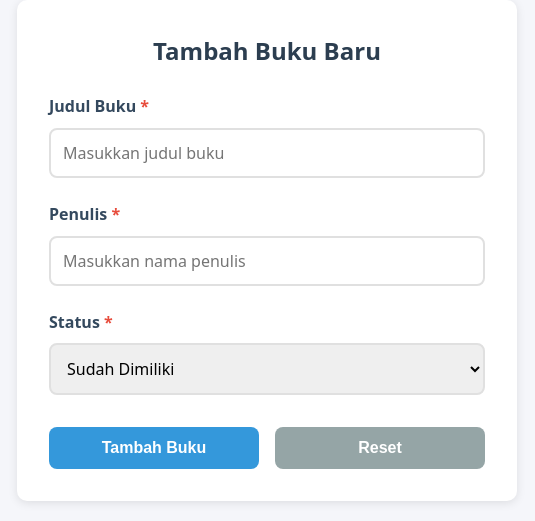
Test case: BookForm Component › should clear form when reset button is clicked
# Isi form
Type "Clean Code" into the field labelled "Judul Buku *" at (267, 153), box [49,128,485,178]
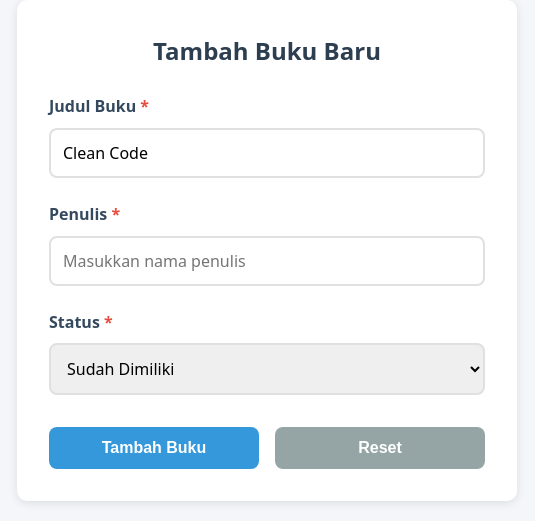
Type "Robert Martin" into the field labelled "Penulis *" at (267, 261), box [49,236,485,286]
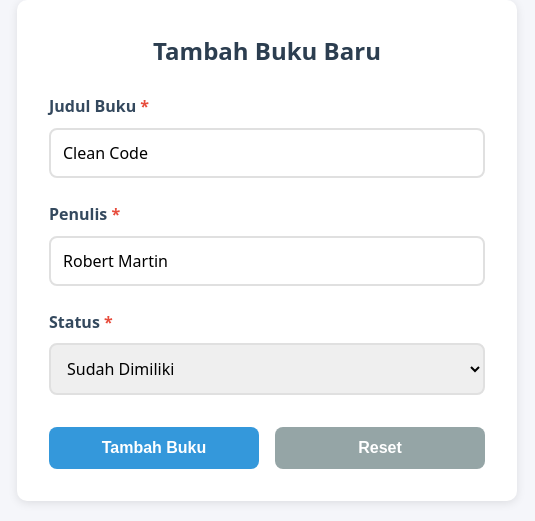
# Klik reset
Click the button "Reset" at (380, 448), box [275,427,485,469]
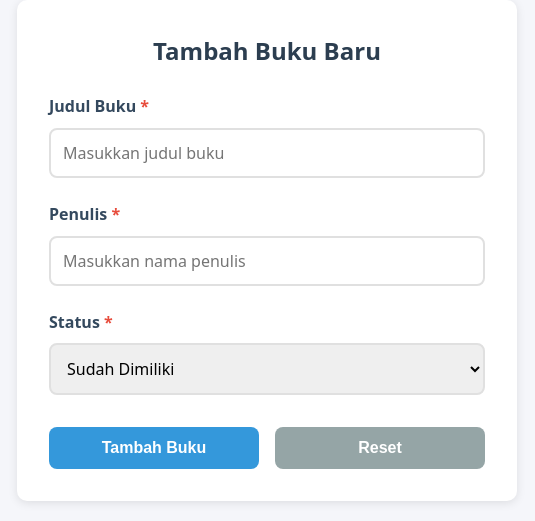
expect the field labelled "Judul Buku *" is empty: met, box [49,128,485,178]
expect the field labelled "Penulis *" is empty: met, box [49,236,485,286]
